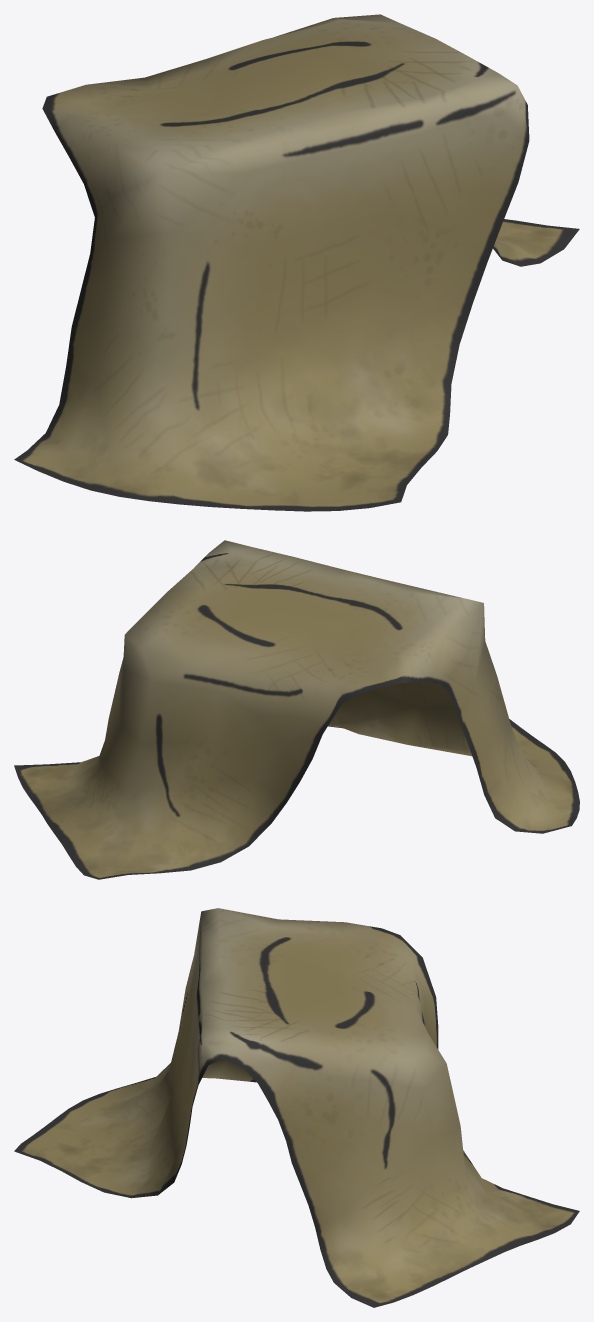
The model's file is Old Coffee Machine Fabric.glb.
3 views of the same model, one above another, from view 1: azimuth 30°, elevation 25°; view 2: azimuth 150°, elevation 25°; view 3: azimuth 270°, elevation 25° (orthographic). The views are drawn at different scales.
Visible parts, largest first — view 1: OldCoffeeMachineFabric; view 2: OldCoffeeMachineFabric; view 3: OldCoffeeMachineFabric.
Boxes of the visible parts, box(x1,y1,x2,y2) form: OldCoffeeMachineFabric: box(14, 14, 579, 511); OldCoffeeMachineFabric: box(14, 540, 579, 879); OldCoffeeMachineFabric: box(14, 908, 579, 1307).
Size of the model in its own units: 1.36 by 0.5476 by 1.33.
1 material, 1 textured.
